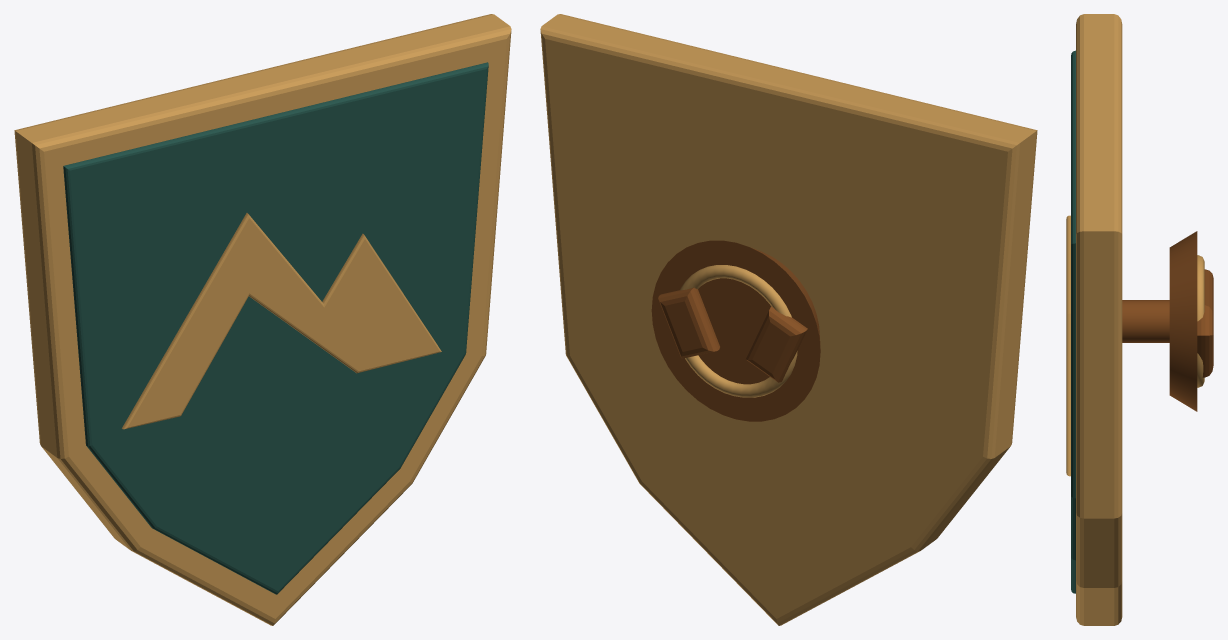
File: horizon.glb
The picture shows the model from 3 angles, left to right: view 1: azimuth 30°, elevation 25°; view 2: azimuth 150°, elevation 25°; view 3: azimuth 270°, elevation 25°; orthographic projection. The views are drawn at different scales.
Size of the model in its own units: 1.53 by 1.65 by 0.438.
